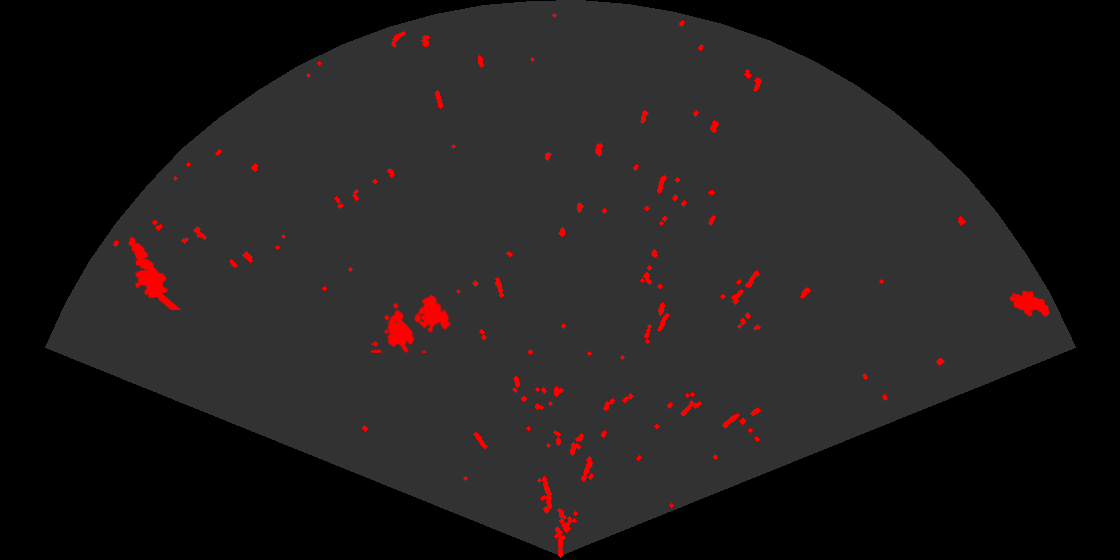AUV: (1008, 289, 1051, 318)
cage: (371, 293, 453, 353)
frogman: (127, 235, 183, 310)
